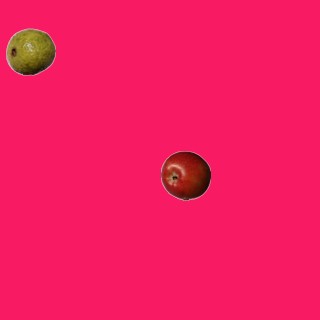Apple Braeburn: (160, 150, 210, 200)
Guava: (5, 26, 55, 76)
